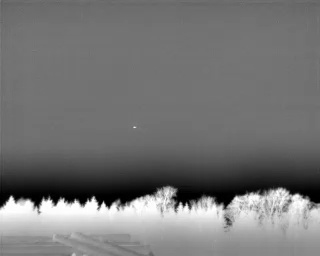BIRD: (131, 123, 138, 131)
